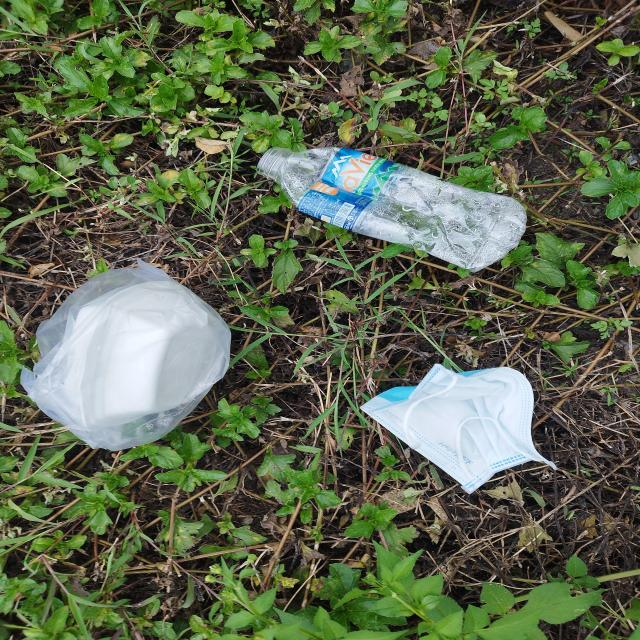bottle: (257, 146, 528, 272)
mask: (359, 362, 558, 498)
trash bag: (18, 260, 230, 451)
